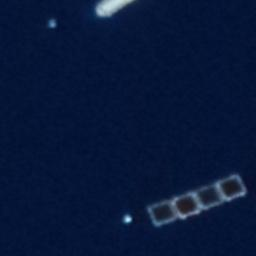square_solid: (143, 197, 182, 228), (169, 187, 205, 219), (215, 172, 250, 203), (194, 179, 226, 211)
